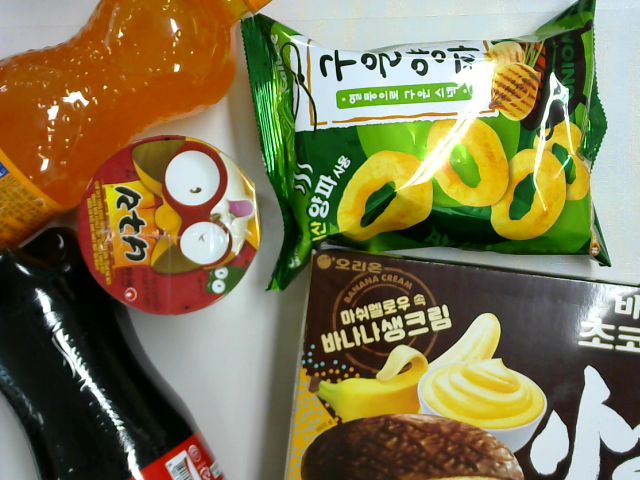Choco_Pie_Banana: (284, 244, 637, 480)
Coca_Cola_1.5L: (1, 223, 231, 476)
Grilled_Onions: (240, 1, 615, 294)
Hwanta_Orange_1.5L: (1, 1, 274, 255)
Raccoon: (74, 133, 262, 319)
